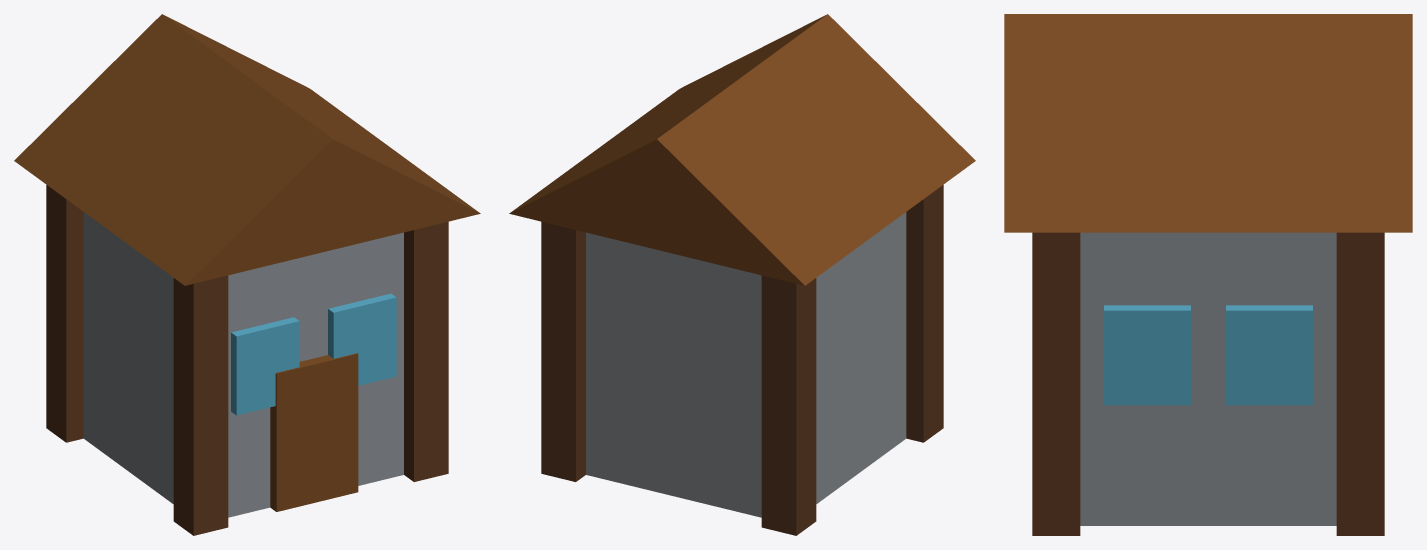
File: well.glb
3 renders of one model, left to right at view 1: azimuth 30°, elevation 25°; view 2: azimuth 150°, elevation 25°; view 3: azimuth 270°, elevation 25°, orthographic. The views are drawn at different scales.
Visible parts, largest first — view 1: beams; view 2: beams; view 3: beams.
Boxes of the visible parts, bbox=[...] form: beams: bbox=[14, 14, 480, 535]; beams: bbox=[509, 14, 975, 535]; beams: bbox=[1004, 14, 1412, 535].
Size of the model in its own units: 0.94 by 1.14 by 0.94.
